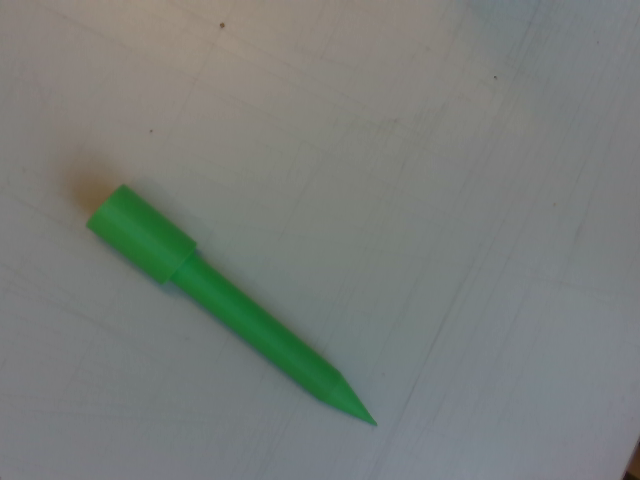Probe: (83, 179, 384, 432)
